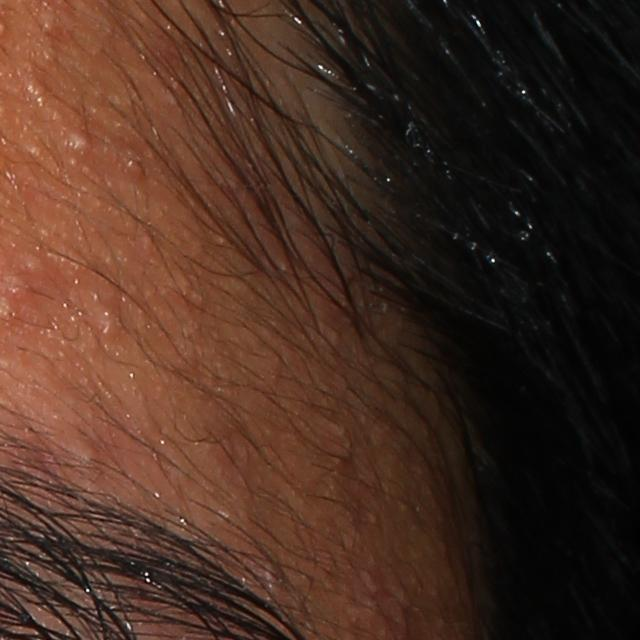comedo: (91, 295, 124, 342), (73, 430, 101, 470), (120, 149, 150, 183), (17, 253, 51, 281), (62, 124, 90, 157), (24, 75, 49, 106)
